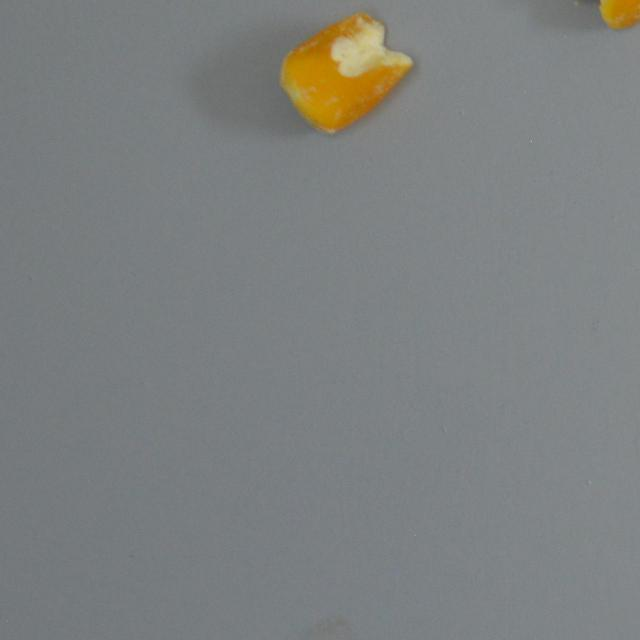pelicula: (292, 9, 396, 136), (563, 0, 640, 30)
